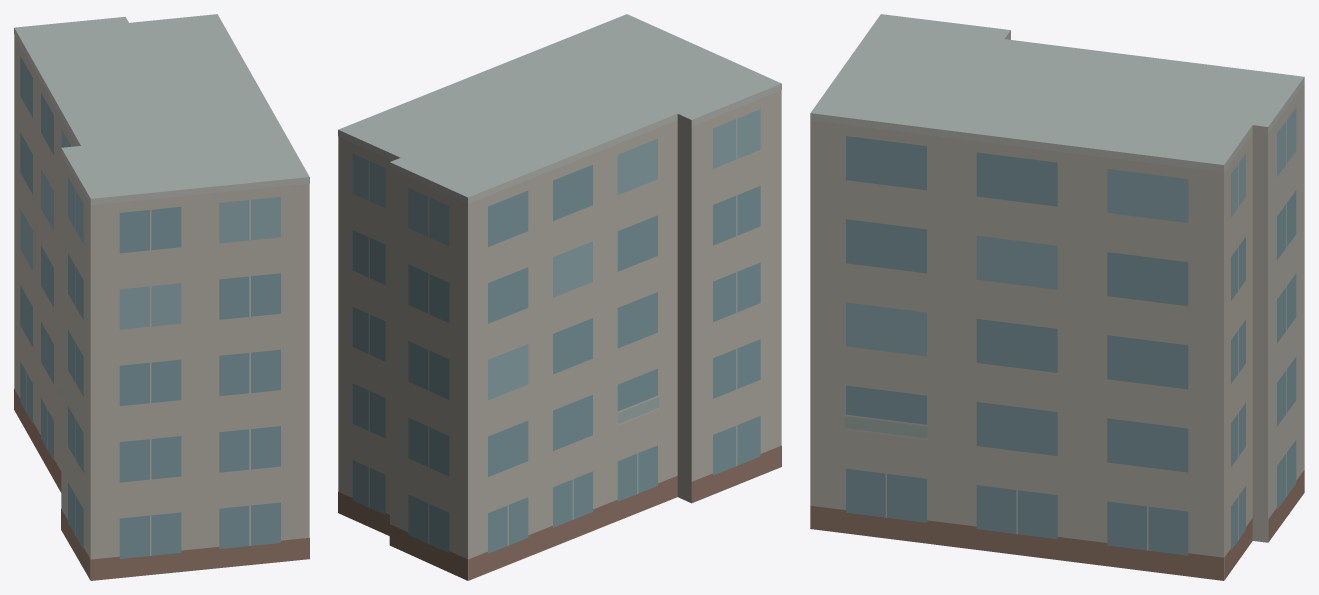
Rendered from survey-upis-32969641.glb.
The picture shows the model from 3 angles, left to right: view 1: azimuth 30°, elevation 25°; view 2: azimuth 150°, elevation 25°; view 3: azimuth 270°, elevation 25°; orthographic projection. The views are drawn at different scales.
Visible parts, largest first — view 1: survey-upis-32969641.tmp; view 2: survey-upis-32969641.tmp; view 3: survey-upis-32969641.tmp.
Part boxes in pixels (box(x1,y1,x2,y2)): survey-upis-32969641.tmp: box(14, 14, 309, 580); survey-upis-32969641.tmp: box(338, 14, 781, 580); survey-upis-32969641.tmp: box(810, 14, 1304, 580).
Bounding box in the file's own units: 11.23 × 14.4 × 15.52.
